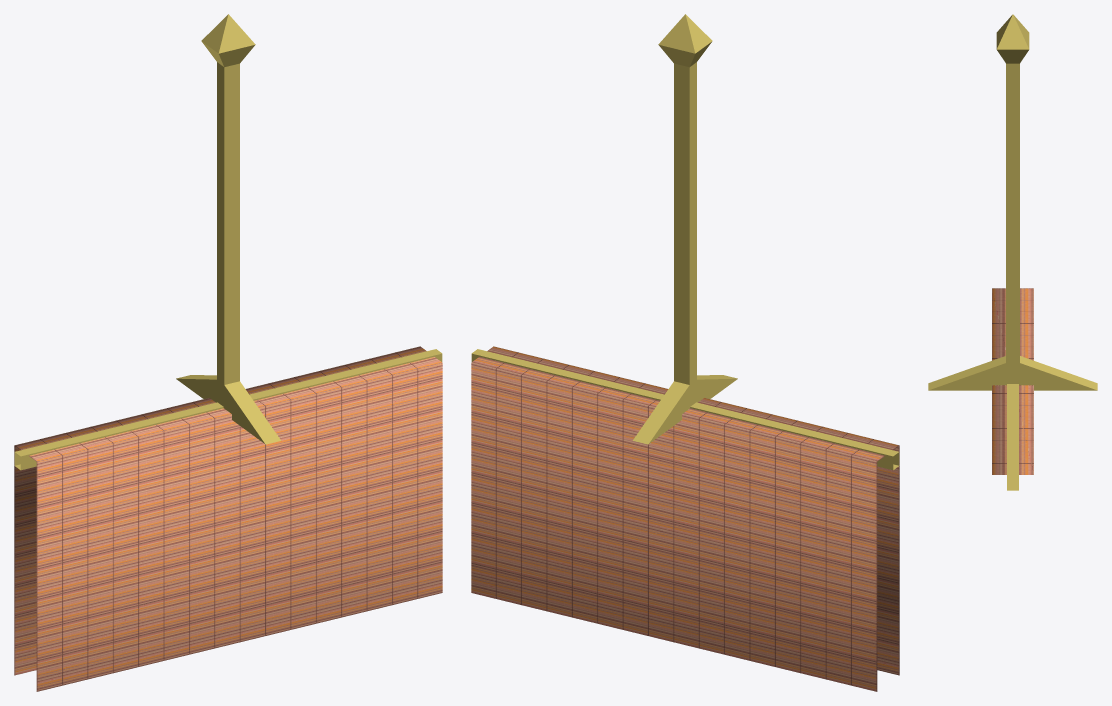
File: 4599floor_r.gltf
3 views of the same model, side by side, from view 1: azimuth 30°, elevation 25°; view 2: azimuth 150°, elevation 25°; view 3: azimuth 270°, elevation 25° (orthographic). The views are drawn at different scales.
Parts seen in each view (by area): view 1: 4599floor_r; view 2: 4599floor_r; view 3: 4599floor_r.
Boxes of the visible parts, box(x1,y1,x2,y2) form: 4599floor_r: box(14, 14, 442, 691); 4599floor_r: box(471, 14, 899, 691); 4599floor_r: box(928, 14, 1097, 490).
Bounding box in the file's own units: 1.59 × 2.23 × 0.5869.
Materials: 2 (1 with a texture image).
